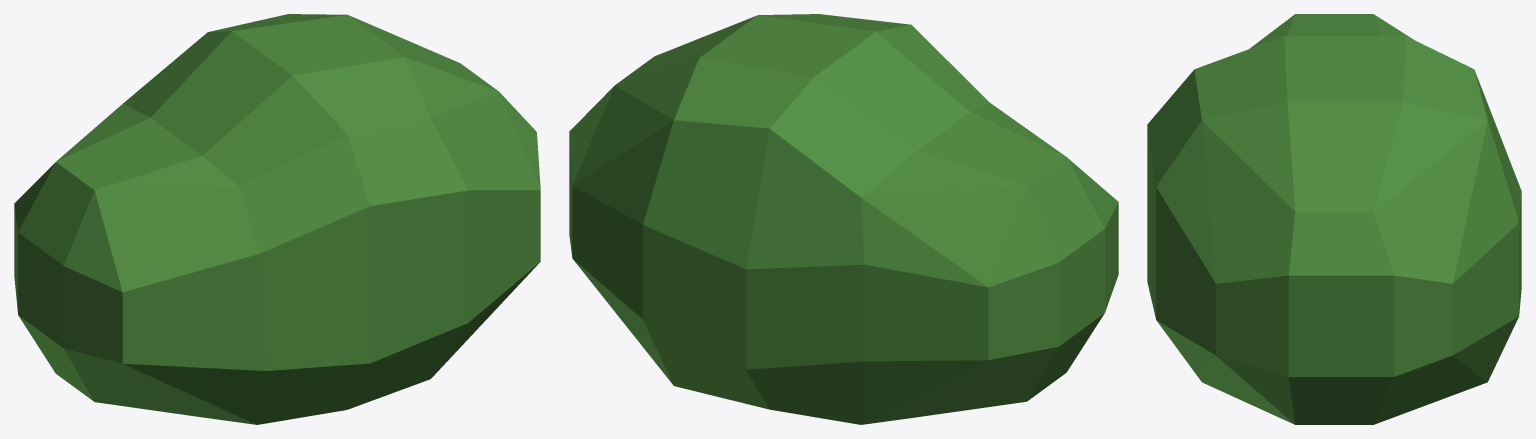
Rendered from bush.fbx.
3 renders of one model, left to right at view 1: azimuth 30°, elevation 25°; view 2: azimuth 150°, elevation 25°; view 3: azimuth 270°, elevation 25°, orthographic.
Visible parts, largest first — view 1: Cube; view 2: Cube; view 3: Cube.
Part boxes in pixels (bbox=[...]): Cube: bbox=[14, 14, 540, 424]; Cube: bbox=[569, 14, 1118, 424]; Cube: bbox=[1147, 14, 1521, 424].
Bounding box in the file's own units: 1.01 × 0.6586 × 0.6861.
